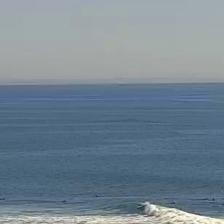surfer: (198, 196, 210, 200), (94, 193, 103, 198), (167, 201, 176, 205), (0, 196, 7, 201), (136, 203, 142, 207), (59, 200, 66, 203), (211, 198, 216, 201)
